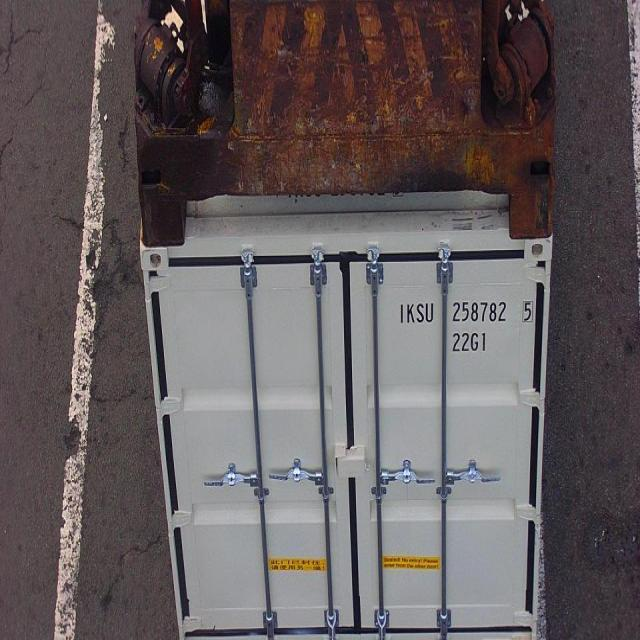ISO: (451, 332, 491, 356)
container_number: (404, 295, 536, 323)
